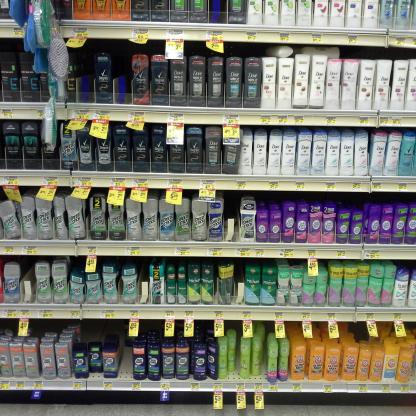Void: (116, 52, 132, 104), (80, 57, 94, 101), (222, 200, 237, 241), (118, 340, 132, 378), (84, 322, 122, 335), (137, 268, 149, 302), (209, 2, 226, 24), (235, 266, 245, 302)
